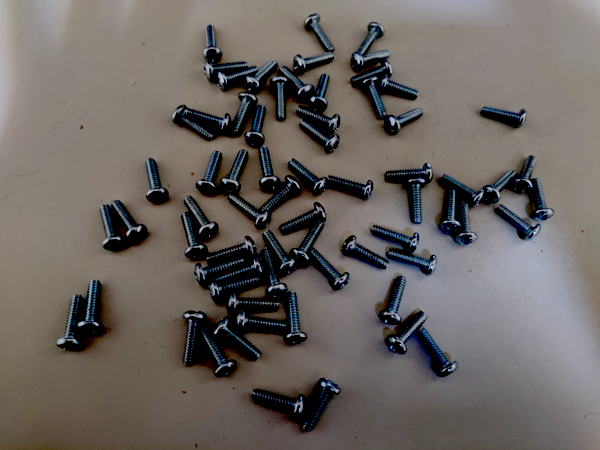shortscrew: (213, 317, 262, 361), (303, 379, 341, 433), (418, 328, 458, 378), (200, 326, 237, 378), (387, 311, 430, 355), (496, 204, 542, 242), (262, 229, 299, 275), (309, 249, 350, 290), (342, 237, 391, 271), (251, 389, 306, 419), (290, 219, 325, 266), (56, 294, 84, 352), (288, 158, 329, 197), (183, 196, 219, 240), (229, 194, 272, 230), (280, 202, 328, 234), (440, 174, 486, 207), (261, 175, 302, 212), (172, 105, 214, 141), (112, 200, 147, 243), (370, 225, 420, 255), (195, 256, 246, 285), (77, 280, 104, 334), (300, 119, 340, 155), (387, 249, 438, 277), (209, 274, 260, 302), (214, 256, 265, 284), (206, 236, 256, 264), (379, 277, 408, 325), (261, 248, 288, 298), (278, 66, 315, 102), (227, 291, 280, 316), (303, 13, 336, 53), (220, 149, 249, 194), (99, 204, 126, 251), (296, 106, 341, 134), (236, 309, 288, 333), (183, 311, 206, 365), (230, 92, 258, 136), (182, 212, 208, 259), (327, 174, 374, 200), (285, 291, 308, 344), (376, 74, 420, 101), (145, 158, 170, 204), (185, 109, 231, 134), (196, 151, 222, 195), (510, 155, 539, 194), (483, 169, 516, 203), (244, 59, 278, 92), (384, 108, 424, 136), (351, 61, 394, 87), (217, 65, 258, 92), (481, 105, 527, 129), (530, 178, 555, 222), (362, 77, 388, 118), (405, 177, 426, 225), (204, 60, 249, 82), (356, 22, 385, 56), (385, 163, 434, 183), (456, 202, 478, 246), (439, 190, 461, 233), (270, 75, 290, 122), (259, 147, 280, 191), (294, 52, 336, 73), (245, 105, 266, 147), (309, 74, 331, 114), (350, 50, 391, 71), (203, 25, 223, 62)
